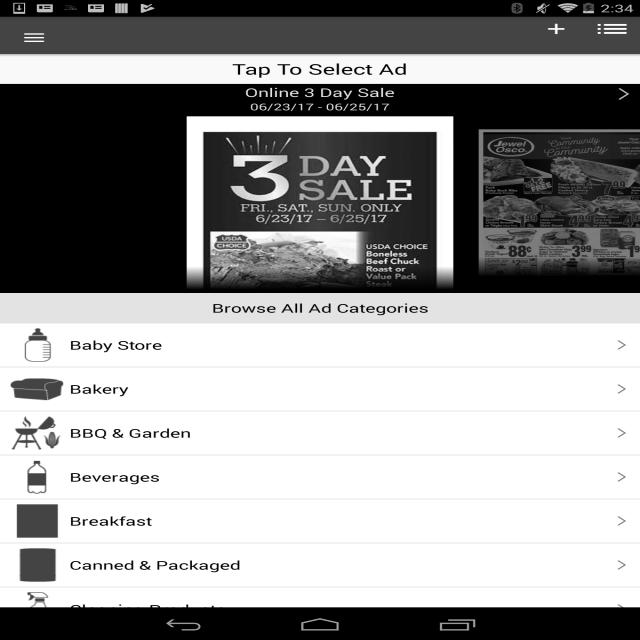ImageButton: (0, 19, 60, 57), (584, 12, 640, 46), (529, 12, 584, 46), (608, 84, 640, 104)
ImageView: (187, 116, 453, 290), (479, 129, 640, 277), (5, 327, 64, 363), (5, 371, 64, 407), (5, 415, 64, 451), (5, 459, 64, 495), (5, 503, 64, 539), (5, 547, 64, 583), (5, 591, 64, 627), (609, 337, 635, 353), (609, 381, 635, 397), (609, 425, 635, 441), (609, 469, 635, 485), (609, 513, 635, 529), (609, 557, 635, 573), (609, 601, 635, 617)
TextView: (0, 293, 640, 323), (232, 59, 408, 79), (64, 557, 241, 573), (64, 601, 226, 617), (244, 84, 394, 100), (64, 425, 191, 441), (250, 100, 390, 113), (64, 337, 163, 353), (64, 469, 160, 485), (64, 513, 152, 529), (64, 381, 129, 397), (629, 59, 640, 79)
